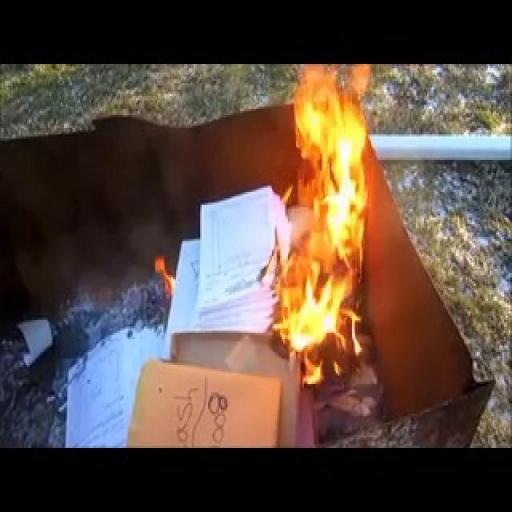smoke: (255, 62, 372, 380)
